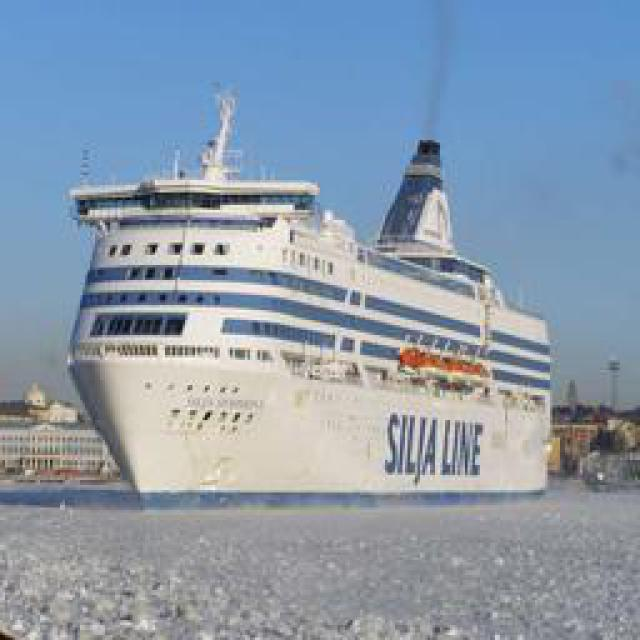Ship: (61, 92, 564, 512)
